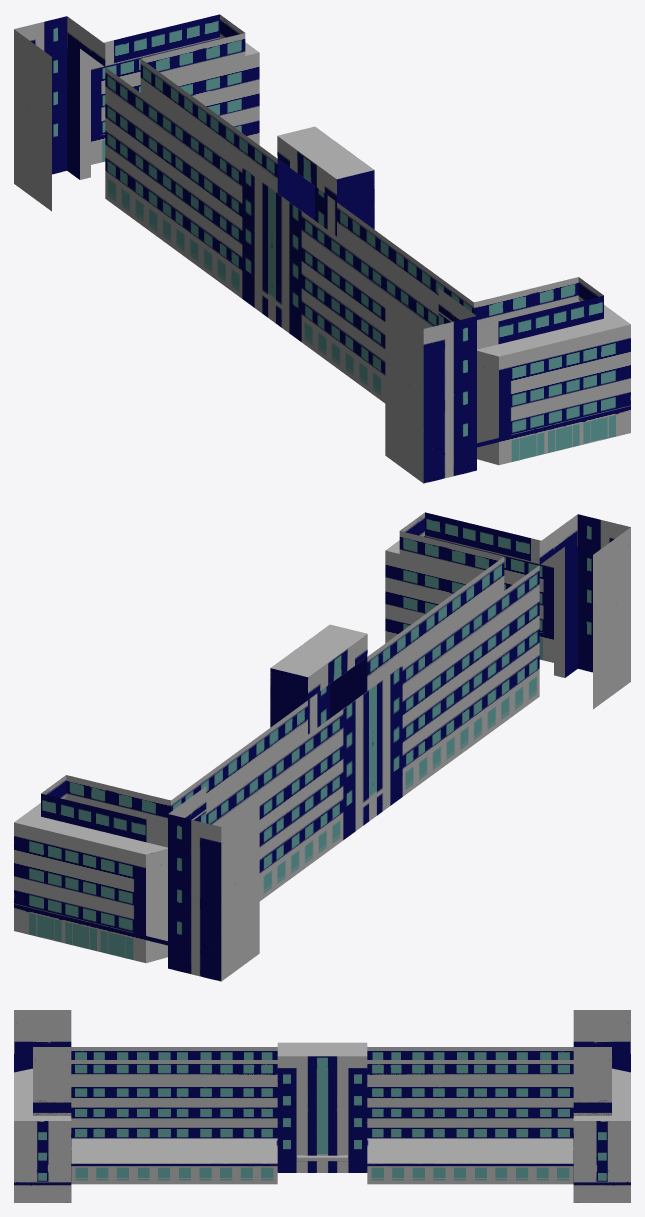
Rendered from SibGuti (2).fbx.
3 renders of one model, top to bottom at view 1: azimuth 30°, elevation 25°; view 2: azimuth 150°, elevation 25°; view 3: azimuth 270°, elevation 25°, orthographic. The views are drawn at different scales.
Visible parts, largest first — view 1: Cube.001; view 2: Cube.001; view 3: Cube.001.
Part boxes in pixels (x1,y1,x2,y2): Cube.001: (14, 14, 630, 483); Cube.001: (14, 512, 630, 981); Cube.001: (14, 1010, 630, 1202).
Bounding box in the file's own units: 1883 × 1342 × 6444.
Materials: 1 (1 with a texture image).
